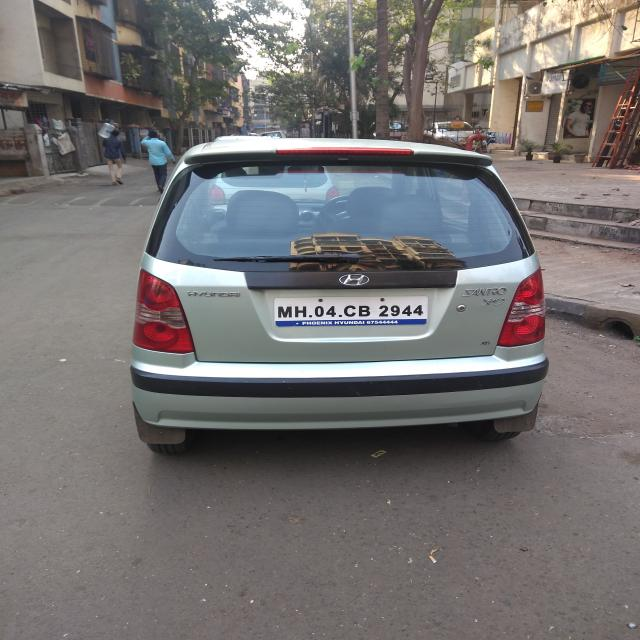Number-Plate: (278, 294, 430, 325)
